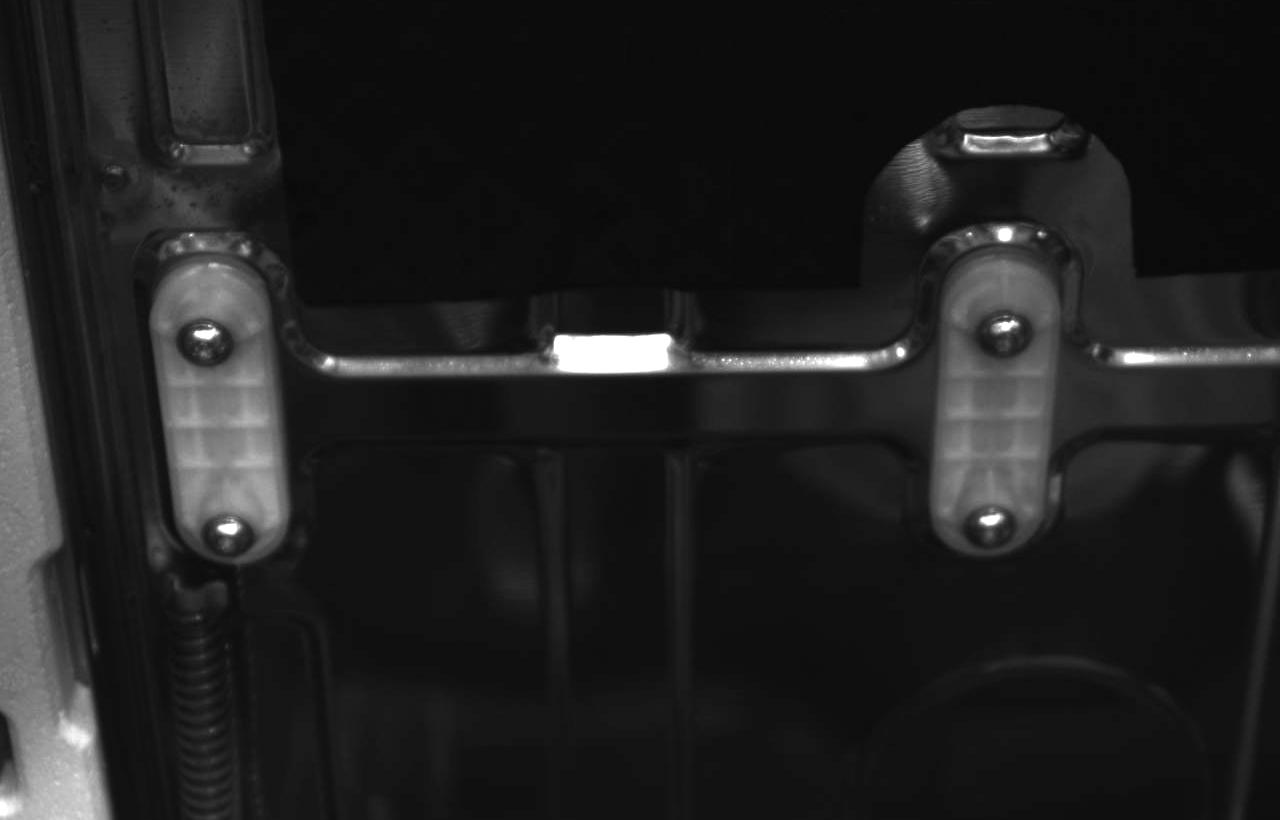vida-ok: (171, 309, 243, 377), (960, 488, 1026, 557), (970, 301, 1037, 368), (196, 508, 261, 567)
